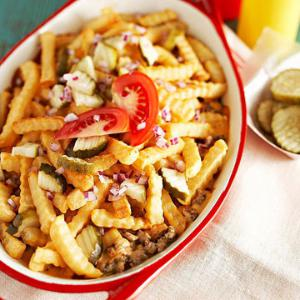fries_350cal: (2, 10, 235, 272)
